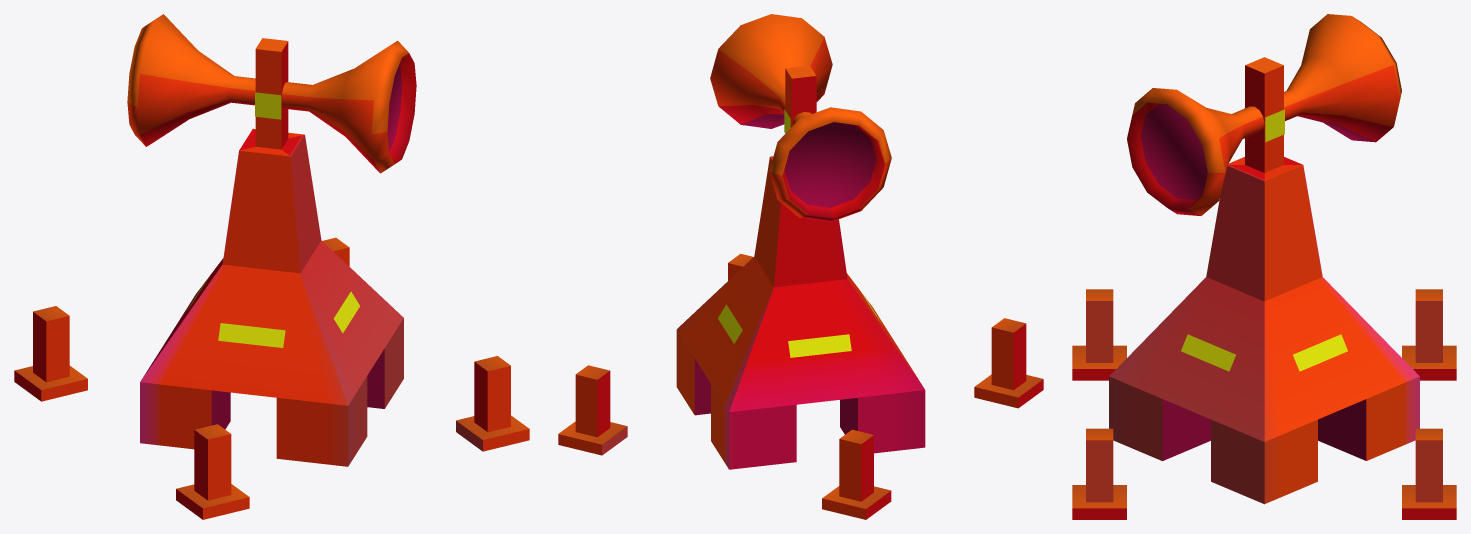
The model's file is CommTower.OrangeStar.glb.
The picture shows the model from 3 angles, left to right: view 1: azimuth 30°, elevation 25°; view 2: azimuth 150°, elevation 25°; view 3: azimuth 270°, elevation 25°; orthographic projection. The views are drawn at different scales.
Parts seen in each view (by area): view 1: CommTower.OrangeStar; view 2: CommTower.OrangeStar; view 3: CommTower.OrangeStar.
Part boxes in pixels (x1,y1,x2,y2): CommTower.OrangeStar: [14, 14, 529, 519]; CommTower.OrangeStar: [558, 14, 1043, 519]; CommTower.OrangeStar: [1072, 14, 1456, 519].
Bounding box in the file's own units: 2.8 × 3.1 × 2.8.
Materials: 2 (1 with a texture image).
